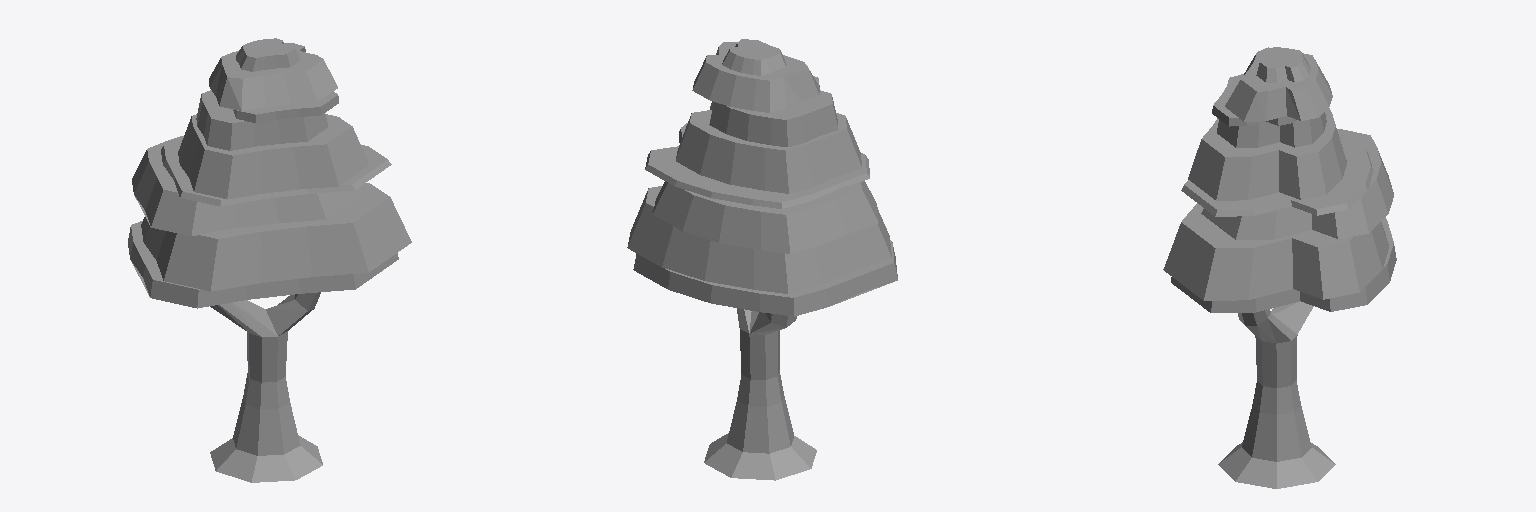
The model's file is tree3.obj.
3 renders of one model, left to right at view 1: azimuth 30°, elevation 25°; view 2: azimuth 150°, elevation 25°; view 3: azimuth 270°, elevation 25°, orthographic.
Parts seen in each view (by area): view 1: Plane.007; view 2: Plane.007; view 3: Plane.007.
Part boxes in pixels (left/top/right/bottom): Plane.007: left=128, top=38, right=411, bottom=482; Plane.007: left=627, top=39, right=897, bottom=480; Plane.007: left=1163, top=47, right=1396, bottom=488.
Size of the model in its own units: 8.6 by 14.21 by 7.37.